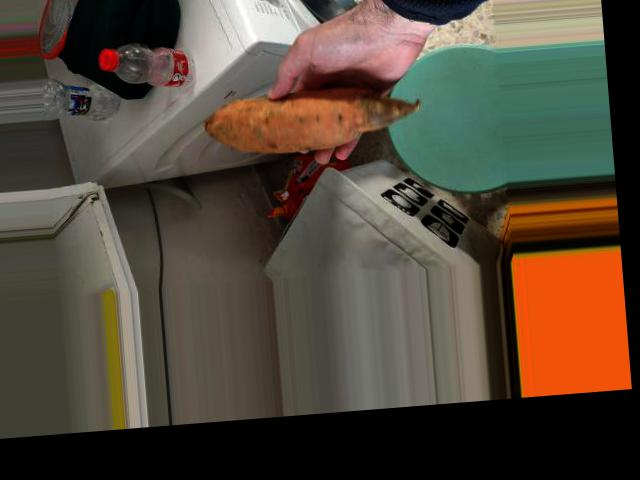sweet_potato: (227, 71, 378, 149)
